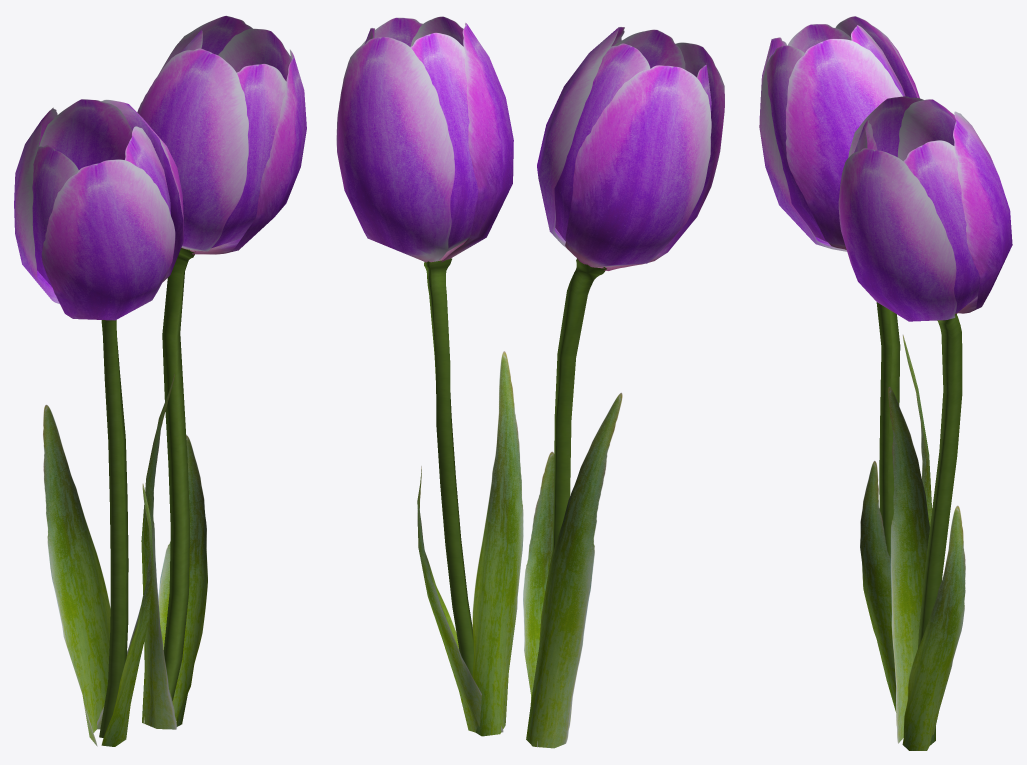
File: tulip-optimized.glb
3 renders of one model, left to right at view 1: azimuth 30°, elevation 25°; view 2: azimuth 150°, elevation 25°; view 3: azimuth 270°, elevation 25°, orthographic. The views are drawn at different scales.
Visible parts, largest first — view 1: Cylinder.002, Cylinder.001; view 2: Cylinder.001, Cylinder.002; view 3: Cylinder.001, Cylinder.002.
Part boxes in pixels (x1,y1,x2,y2): Cylinder.002: (14, 99, 183, 746); Cylinder.001: (137, 16, 306, 729); Cylinder.001: (336, 16, 523, 736); Cylinder.002: (523, 27, 724, 748); Cylinder.001: (838, 96, 1012, 750); Cylinder.002: (759, 16, 932, 712).
Bounding box in the file's own units: 10.64 × 21.36 × 7.43.
Materials: 2 (2 with a texture image).
